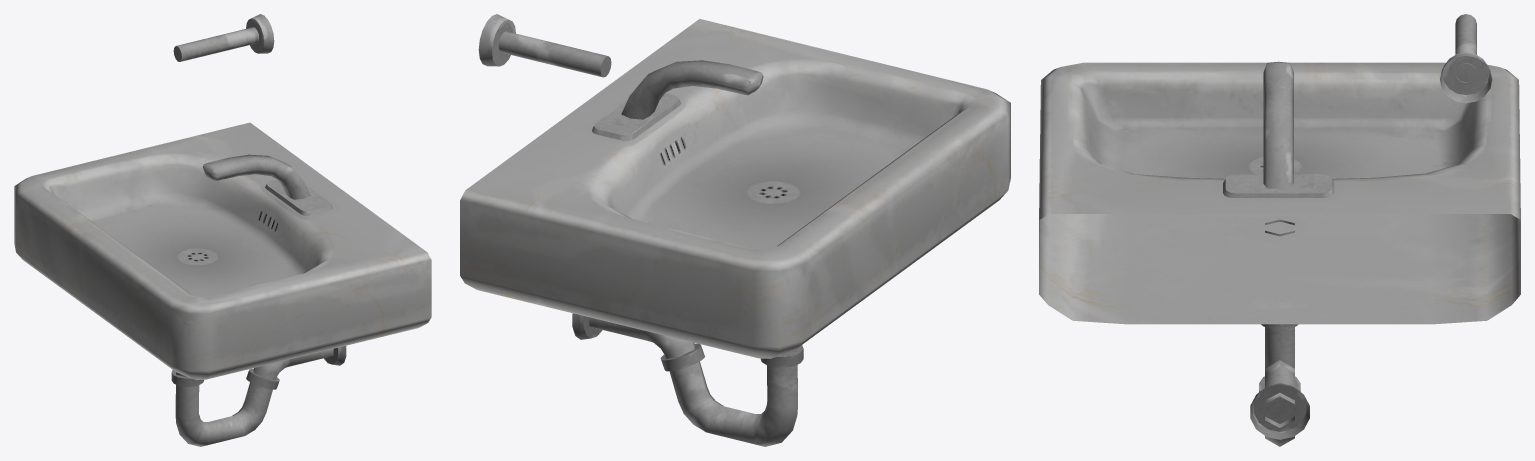
The model's file is MB_Sink.fbx.
The picture shows the model from 3 angles, left to right: view 1: azimuth 30°, elevation 25°; view 2: azimuth 150°, elevation 25°; view 3: azimuth 270°, elevation 25°; orthographic projection. The views are drawn at different scales.
Parts seen in each view (by area): view 1: MB_Sink_LOD0; view 2: MB_Sink_LOD0; view 3: MB_Sink_LOD0.
Boxes of the visible parts, x1,y1,x2,y2 form: MB_Sink_LOD0: [14, 14, 431, 446]; MB_Sink_LOD0: [460, 14, 1010, 446]; MB_Sink_LOD0: [1039, 14, 1520, 446].
Size of what is drawn, in the model's own units: 48.58 by 65.47 by 63.61.
